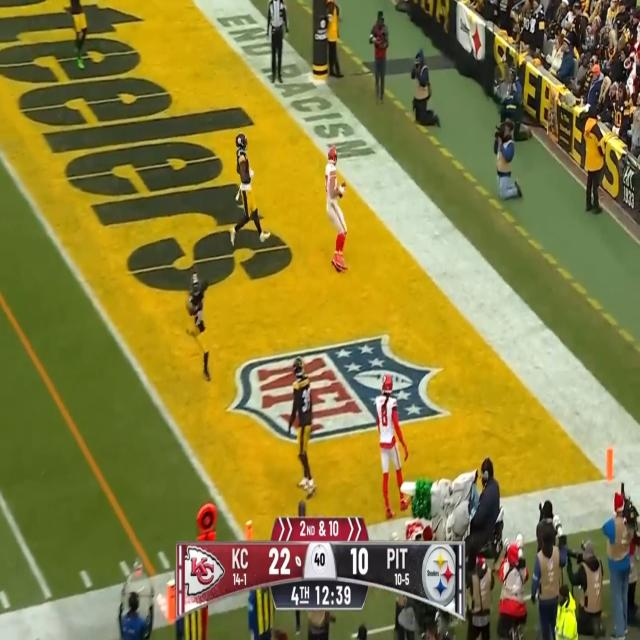Ball: (339, 180, 347, 200)
